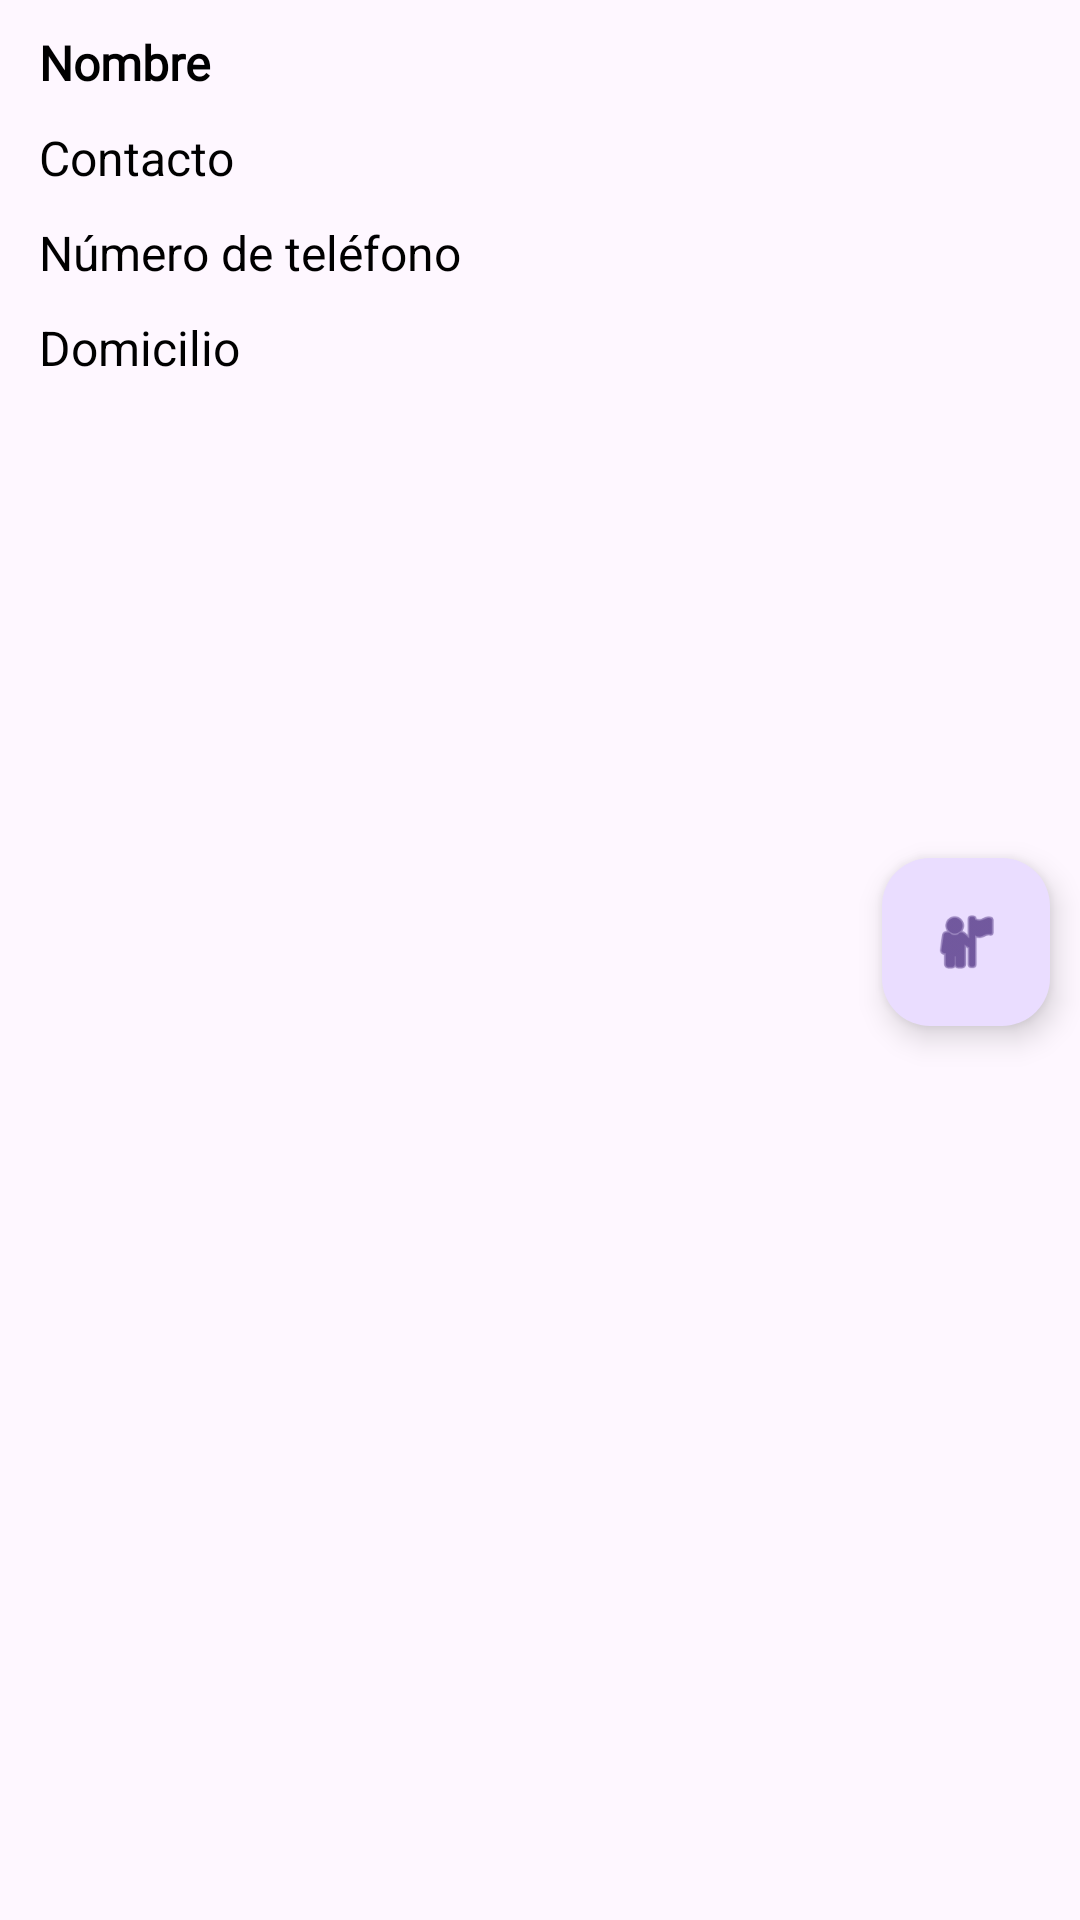

Where to tap for icons on this 1080w x 1920h app screen, as (x,y):
myplaces: (966,942)
